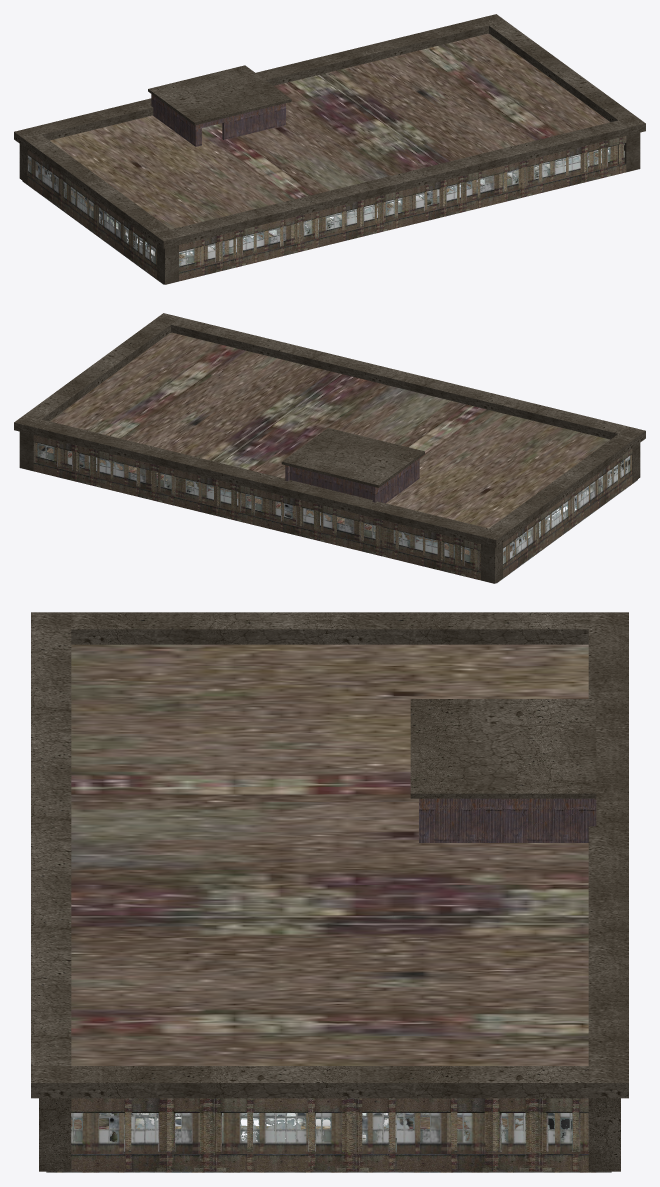
Rendered from BagSS08top_200.fbx.
3 renders of one model, top to bottom at view 1: azimuth 30°, elevation 25°; view 2: azimuth 150°, elevation 25°; view 3: azimuth 270°, elevation 25°, orthographic. The views are drawn at different scales.
Visible parts, largest first — view 1: topBox0, topCrete0, topMain0, topWalls0; view 2: topBox0, topCrete0, topMain0, topWalls0; view 3: topBox0, topCrete0, topMain0, topWalls0.
Part boxes in pixels (bbox=[...]): topBox0: bbox=[22, 33, 624, 284]; topCrete0: bbox=[14, 14, 645, 284]; topMain0: bbox=[27, 136, 626, 281]; topWalls0: bbox=[151, 94, 285, 146]; topBox0: bbox=[35, 332, 637, 583]; topCrete0: bbox=[14, 313, 645, 583]; topMain0: bbox=[33, 435, 632, 580]; topWalls0: bbox=[285, 458, 419, 503]; topBox0: bbox=[46, 644, 611, 1172]; topCrete0: bbox=[31, 612, 628, 1171]; topMain0: bbox=[71, 1098, 588, 1171]; topWalls0: bbox=[419, 798, 596, 842].
Bounding box in the file's own units: 61.81 × 8.02 × 33.18.
